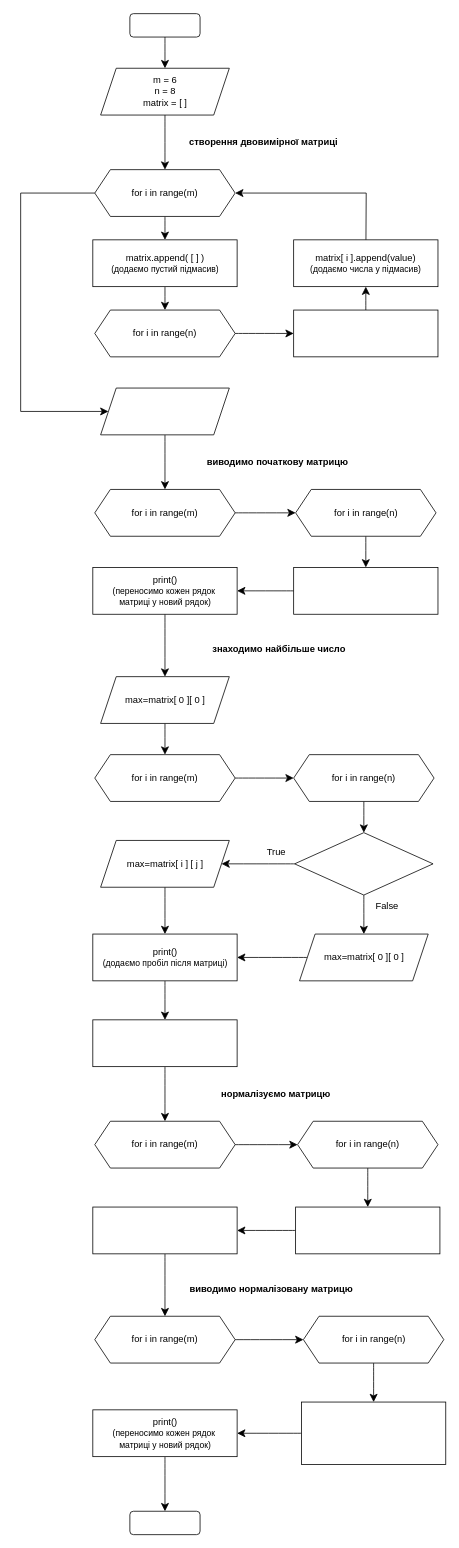
The diagram is 459 pixels wide and 1548 high, and some of its shapes have lost their labels. Each missing label, with the centre of its shape:
"Початкова матриця": [164,411]
end: [164,1522]
if matrix[ i ] [ j ]>max:: [363,863]
matrix[ i ] [ j ]=matrix[ i ] [ j ]/max: [367,1230]
print("Нормалізована матриця:\n"): [164,1230]
print(f"{matrix [ i ] [ j ]:4}", end=" ") (виводимо початкову матрицю): [365,590]
print(f"{matrix[ i ] [ j ]:.4f}", end=" ") (виводимо нормалізовану матрицю): [373,1432]
print(f"Найбільший елемент матриці: {max}\n"): [164,1043]
start: [164,25]
value = random.randint(1, 100) (генеруємо числа): [365,333]
